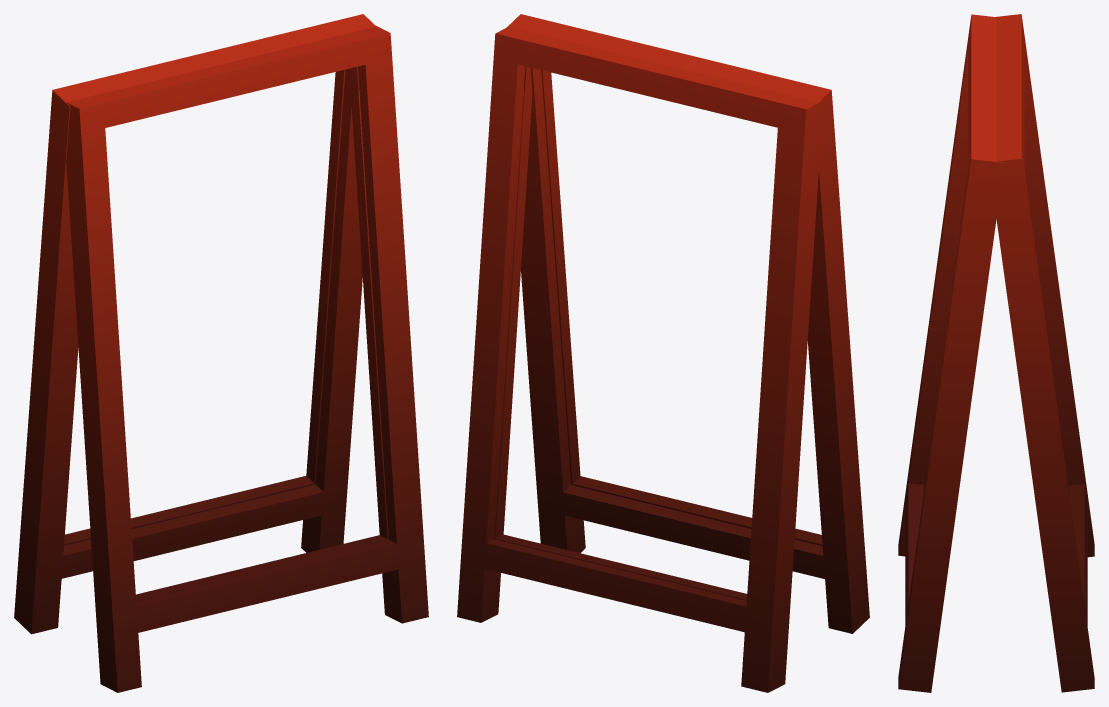
Rendered from Pancarte_Dehors.fbx.
The picture shows the model from 3 angles, left to right: view 1: azimuth 30°, elevation 25°; view 2: azimuth 150°, elevation 25°; view 3: azimuth 270°, elevation 25°; orthographic projection. The views are drawn at different scales.
Parts seen in each view (by area): view 1: Cube.158; view 2: Cube.158; view 3: Cube.158.
Boxes of the visible parts, x1,y1,x2,y2 form: Cube.158: (14, 14, 428, 692); Cube.158: (457, 14, 869, 692); Cube.158: (898, 14, 1094, 692).
Size of the model in its own units: 38.91 by 66.74 by 22.22.
